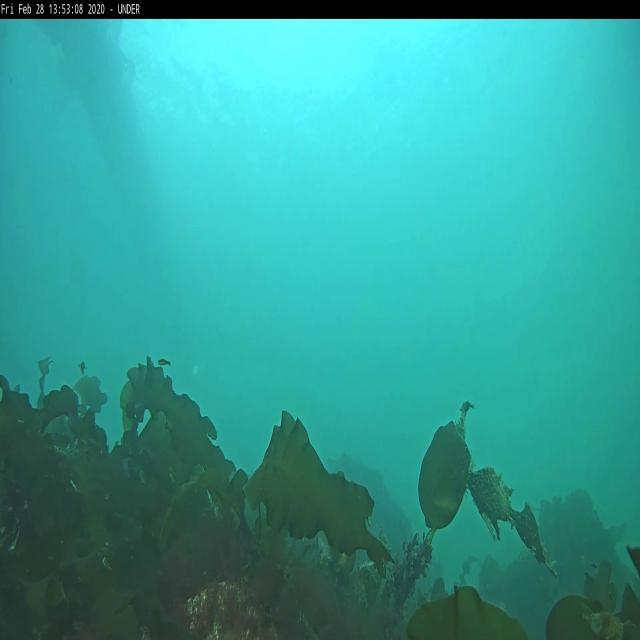fish: (79, 360, 89, 374), (160, 356, 170, 366)
